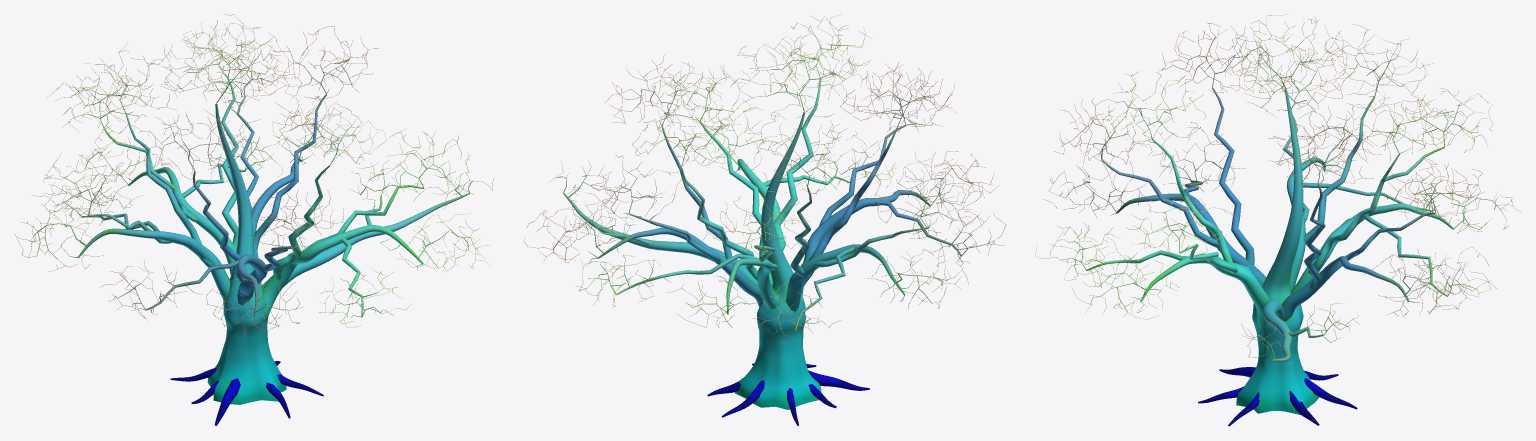
The model's file is oak-hero.glb.
The picture shows the model from 3 angles, left to right: view 1: azimuth 30°, elevation 25°; view 2: azimuth 150°, elevation 25°; view 3: azimuth 270°, elevation 25°; orthographic projection. The views are drawn at different scales.
Parts seen in each view (by area): view 1: bark; view 2: bark; view 3: bark.
Boxes of the visible parts, bbox=[...] form: bark: bbox=[14, 14, 494, 425]; bark: bbox=[523, 14, 1006, 425]; bark: bbox=[1035, 14, 1521, 426].
Bounding box in the file's own units: 20.41 × 15.94 × 19.23.
